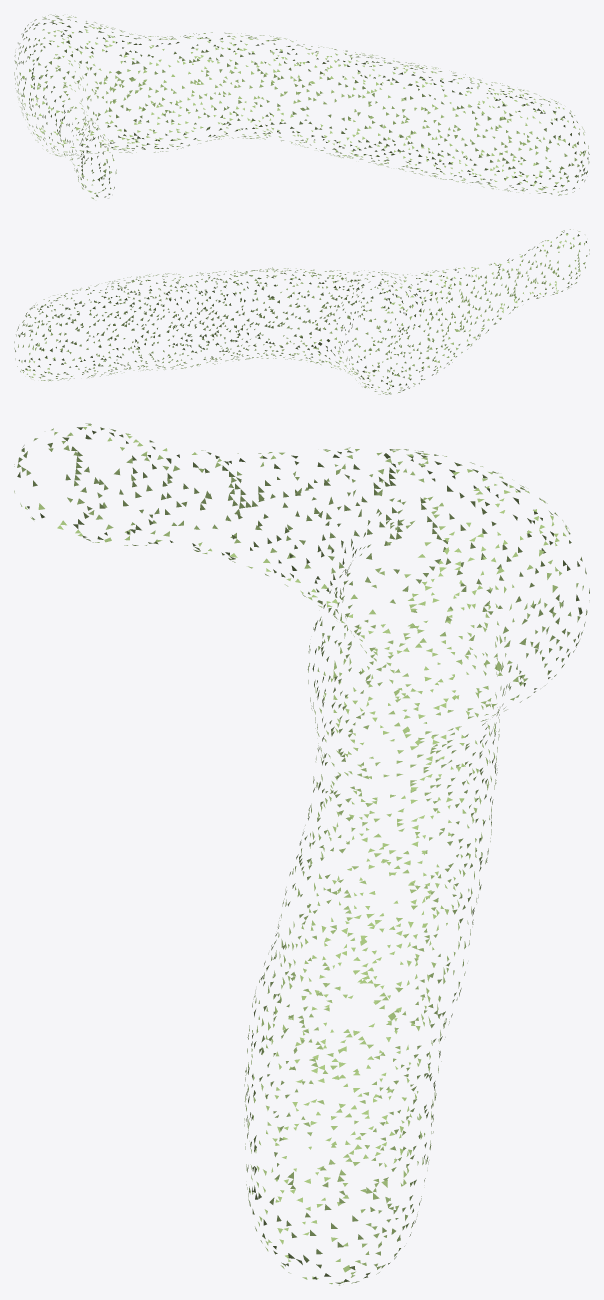
The model's file is morph_012.glb.
3 views of the same model, one above another, from view 1: azimuth 30°, elevation 25°; view 2: azimuth 150°, elevation 25°; view 3: azimuth 270°, elevation 25° (orthographic). The views are drawn at different scales.
Size of the model in its own units: 115 by 49.39 by 59.53.
